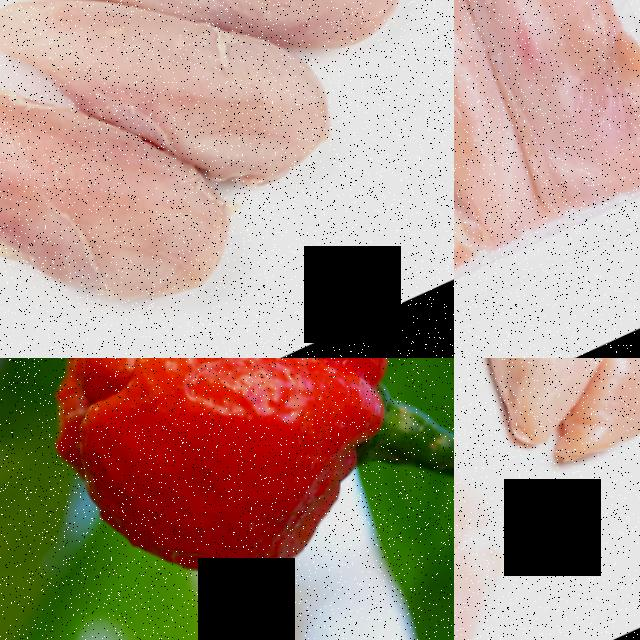chicken breast: (0, 69, 214, 358), (133, 12, 387, 247), (454, 0, 640, 260), (454, 0, 601, 285), (43, 0, 442, 99), (454, 358, 640, 522), (454, 362, 562, 640)
